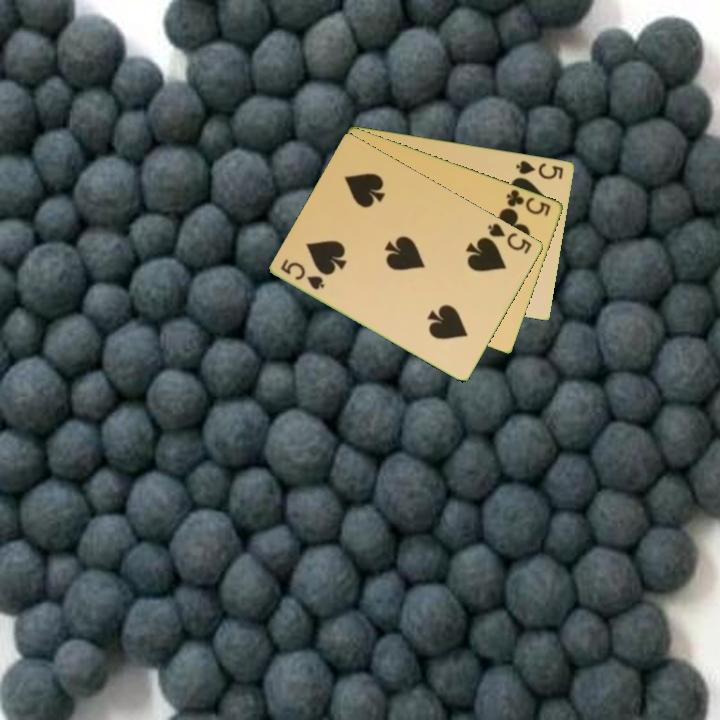5c: (503, 186, 554, 219)
5s: (484, 219, 535, 257), (277, 255, 328, 293), (513, 157, 566, 182)
